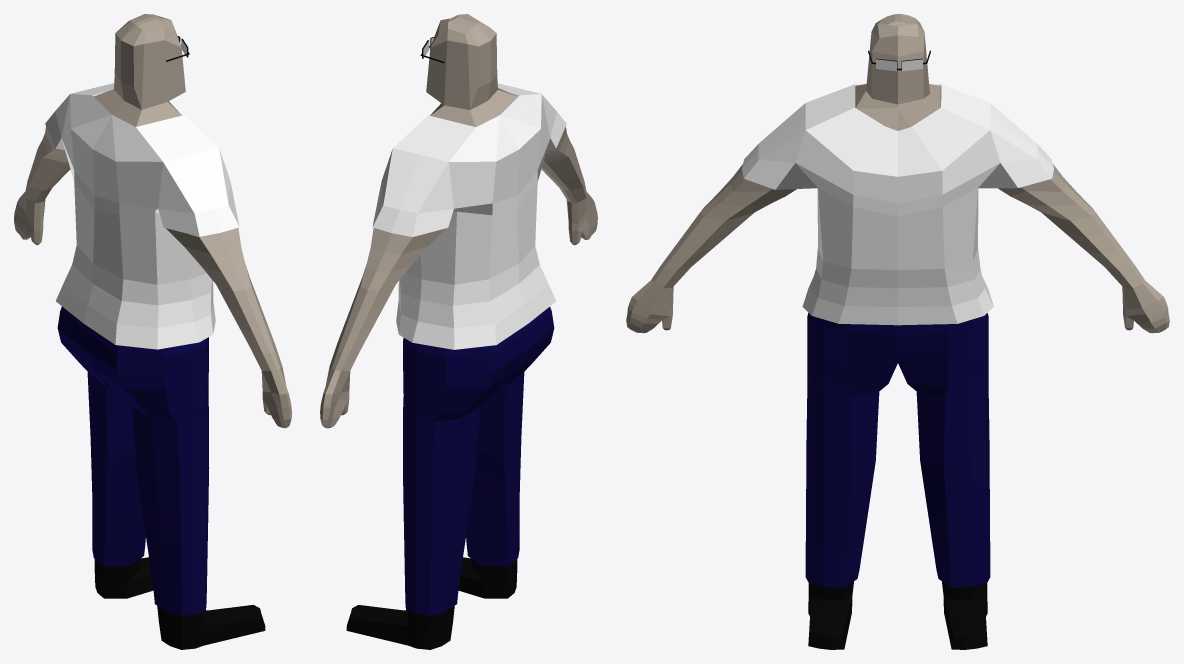
Rendered from character2.fbx.
3 views of the same model, side by side, from view 1: azimuth 30°, elevation 25°; view 2: azimuth 150°, elevation 25°; view 3: azimuth 270°, elevation 25° (orthographic).
Parts seen in each view (by area): view 1: Character2Shirt, Character2Jeans, Character2, Character2Shoe; view 2: Character2Shirt, Character2Jeans, Character2, Character2Shoe; view 3: Character2Shirt, Character2Jeans, Character2, Character2Shoe.
Boxes of the visible parts, <box> form: Character2Shirt: <box>45,83,239,349</box>; Character2Jeans: <box>57,306,209,615</box>; Character2: <box>14,14,291,428</box>; Character2Shoe: <box>94,557,265,649</box>; Character2Shirt: <box>372,83,566,349</box>; Character2Jeans: <box>403,307,554,615</box>; Character2: <box>320,14,597,428</box>; Character2Shoe: <box>346,557,517,649</box>; Character2Shirt: <box>742,84,1053,325</box>; Character2Jeans: <box>805,313,990,588</box>; Character2: <box>626,14,1169,333</box>; Character2Shoe: <box>808,581,987,649</box>.
Size of the model in its own units: 159 by 626 by 518.
